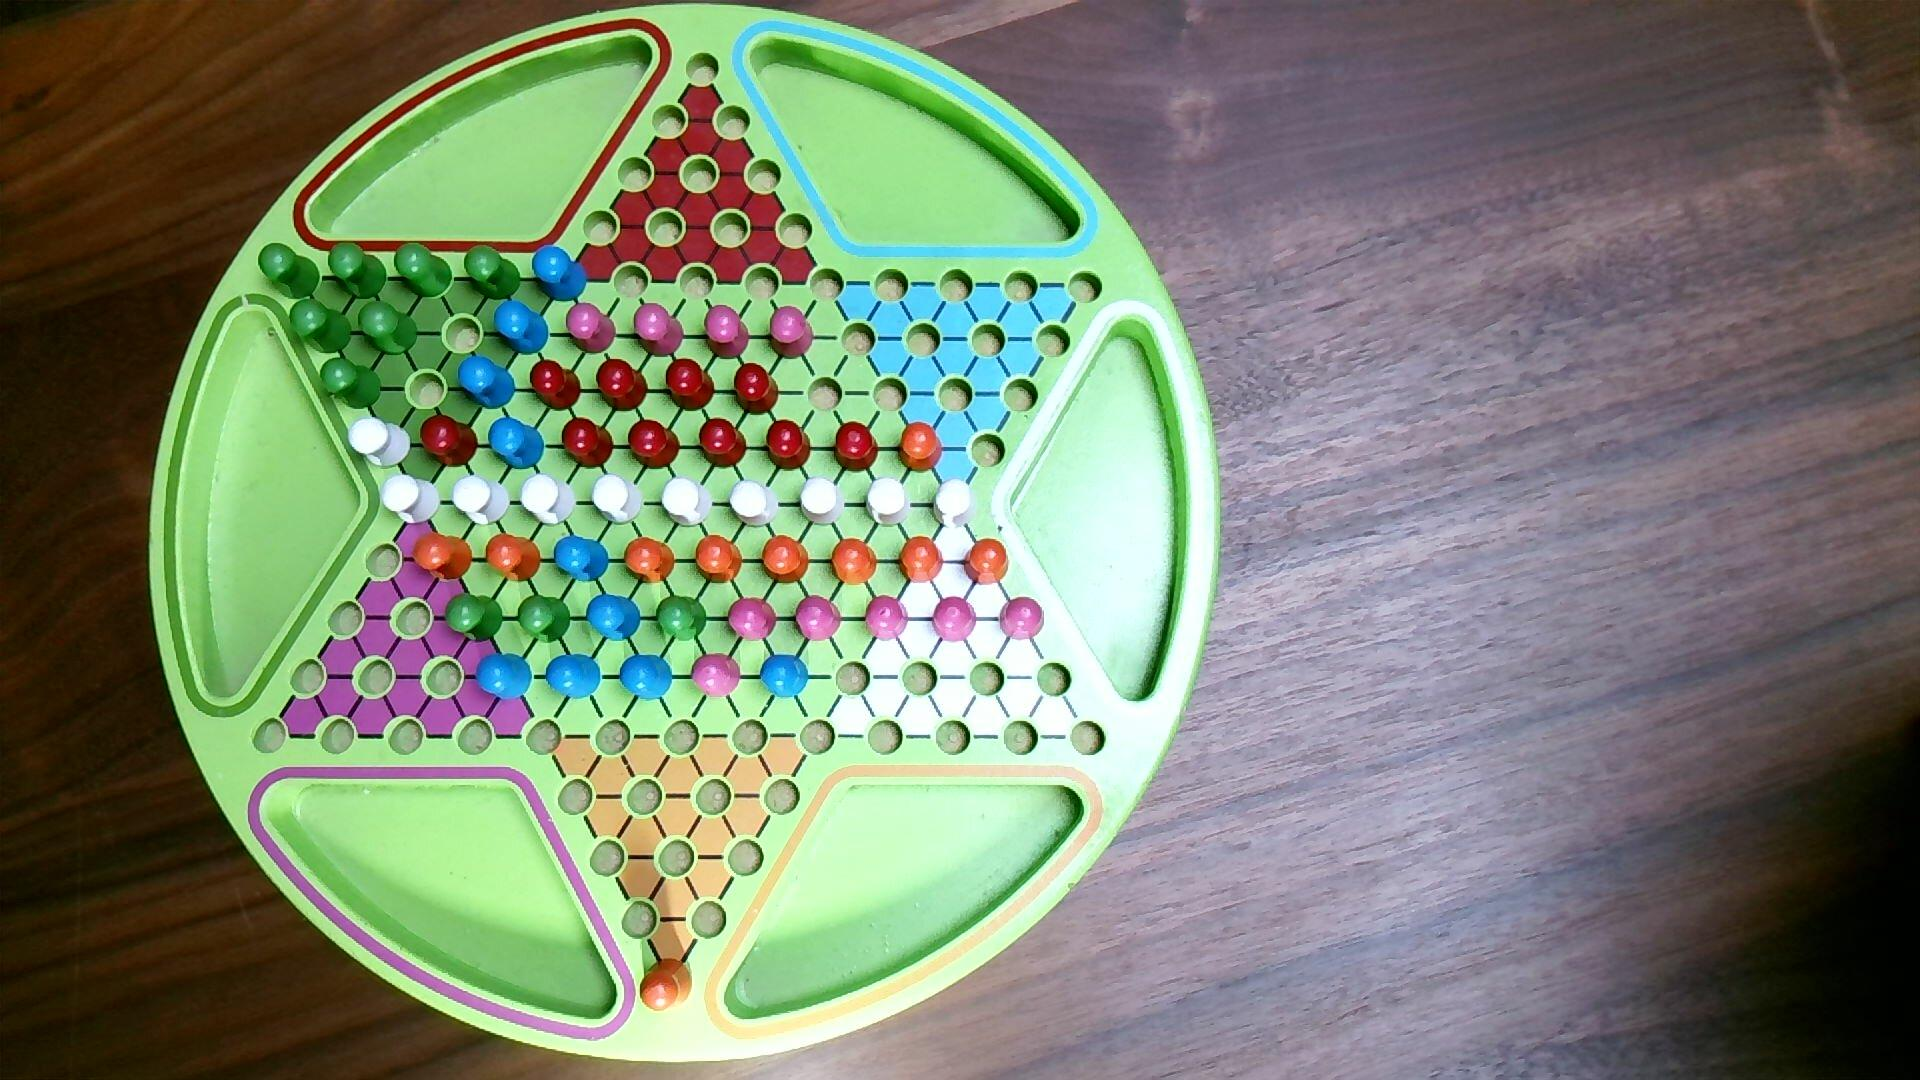B: (456, 353, 518, 411), (531, 243, 589, 305), (487, 415, 549, 472), (493, 299, 553, 357), (473, 651, 535, 703), (553, 533, 611, 585), (584, 593, 644, 644), (618, 653, 676, 703), (545, 653, 603, 702), (758, 653, 811, 702)
G: (257, 241, 323, 301), (327, 241, 389, 302), (356, 298, 419, 357), (392, 243, 455, 302), (463, 243, 524, 303), (289, 298, 353, 355), (319, 356, 382, 411), (444, 592, 505, 645), (517, 593, 574, 645), (655, 593, 709, 644)
O: (411, 531, 475, 584), (638, 957, 695, 1014), (484, 531, 545, 584), (895, 419, 945, 476), (760, 534, 811, 587), (622, 535, 676, 585), (829, 537, 880, 588), (694, 534, 744, 585), (963, 535, 1011, 588), (895, 535, 945, 585)
R: (419, 413, 481, 469), (560, 415, 617, 472), (527, 357, 584, 413), (626, 418, 683, 472), (595, 359, 650, 413), (663, 357, 717, 413), (764, 418, 814, 473), (832, 419, 881, 476), (698, 417, 748, 469), (733, 361, 781, 417)
R2: (632, 301, 687, 360), (564, 302, 618, 357), (702, 303, 752, 363), (766, 305, 818, 360), (688, 651, 742, 702), (794, 593, 844, 644), (727, 596, 779, 644), (864, 593, 911, 644), (998, 595, 1047, 642), (932, 595, 978, 645)
W: (347, 417, 413, 471), (378, 473, 443, 527), (450, 473, 513, 527), (520, 473, 579, 529), (591, 473, 645, 527), (659, 476, 715, 527), (862, 477, 914, 530), (728, 479, 781, 530), (798, 475, 848, 527), (931, 477, 978, 531)
